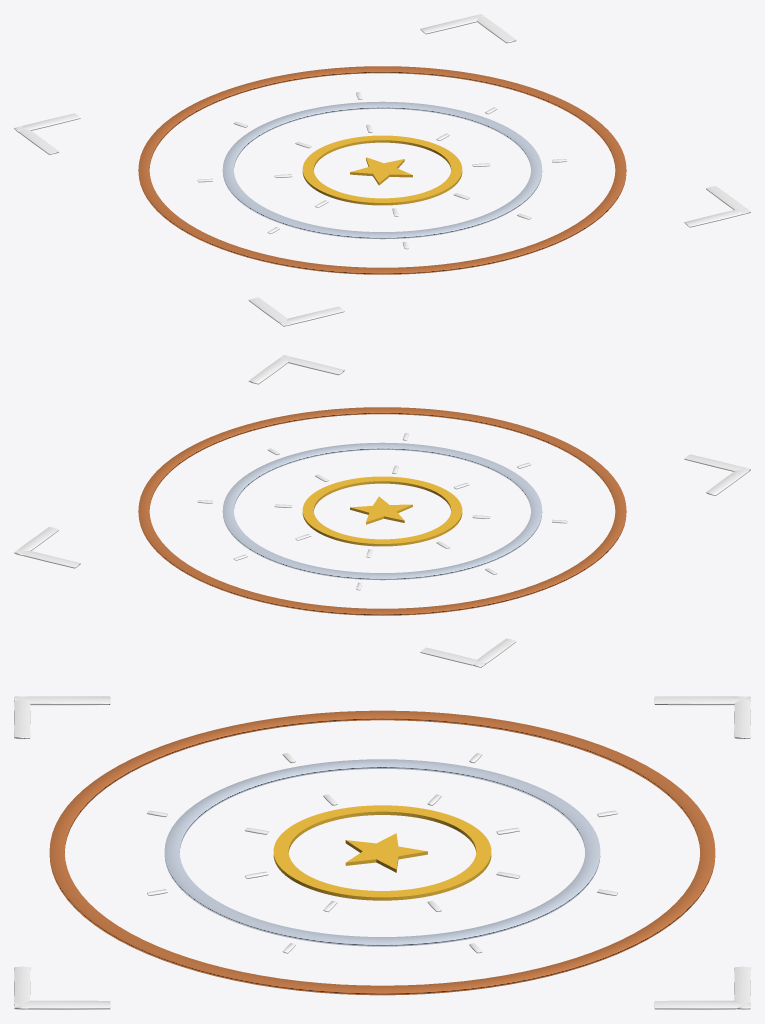
The model's file is SlaparazziFrame.obj.
3 views of the same model, one above another, from view 1: azimuth 30°, elevation 25°; view 2: azimuth 150°, elevation 25°; view 3: azimuth 270°, elevation 25° (orthographic). The views are drawn at different scales.
Parts seen in each view (by area): view 1: Bronze, Silver, Bracket, Gold; view 2: Bronze, Silver, Bracket, Gold; view 3: Bronze, Silver, Bracket, Gold.
Part boxes in pixels (x1,y1,x2,y2): Bronze: (138, 66, 626, 274); Silver: (222, 101, 542, 239); Bracket: (14, 14, 750, 326); Gold: (302, 135, 462, 205); Bronze: (138, 407, 626, 615); Silver: (222, 442, 542, 580); Bracket: (14, 355, 750, 667); Gold: (302, 476, 462, 546); Bronze: (49, 710, 715, 995); Silver: (164, 759, 600, 946); Bracket: (14, 696, 750, 1009); Gold: (273, 805, 491, 900).
Size of the model in its own units: 24.35 by 0.12 by 24.35.
